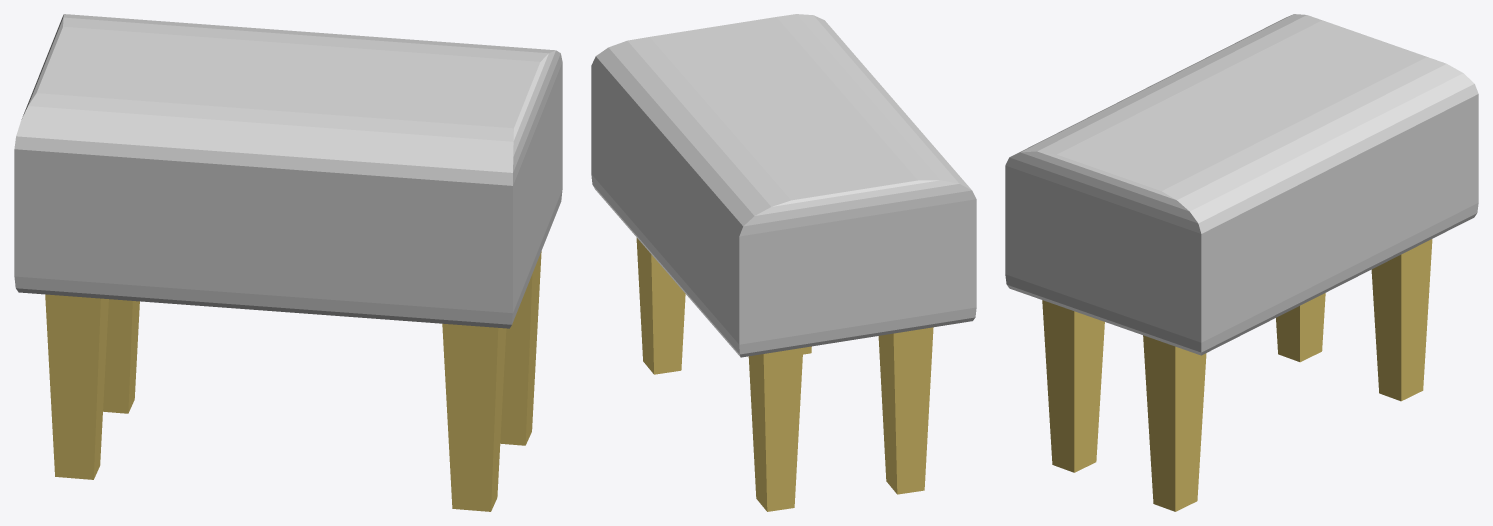
The model's file is hunters_wimb_pianochair.fbx.
The picture shows the model from 3 angles, left to right: view 1: azimuth 30°, elevation 25°; view 2: azimuth 150°, elevation 25°; view 3: azimuth 270°, elevation 25°; orthographic projection. The views are drawn at different scales.
Parts seen in each view (by area): view 1: Cube.024; view 2: Cube.024; view 3: Cube.024.
Boxes of the visible parts, x1,y1,x2,y2 form: Cube.024: [14, 14, 562, 511]; Cube.024: [591, 14, 976, 511]; Cube.024: [1005, 14, 1478, 511].
Size of the model in its own units: 65.22 by 46.76 by 62.51.
